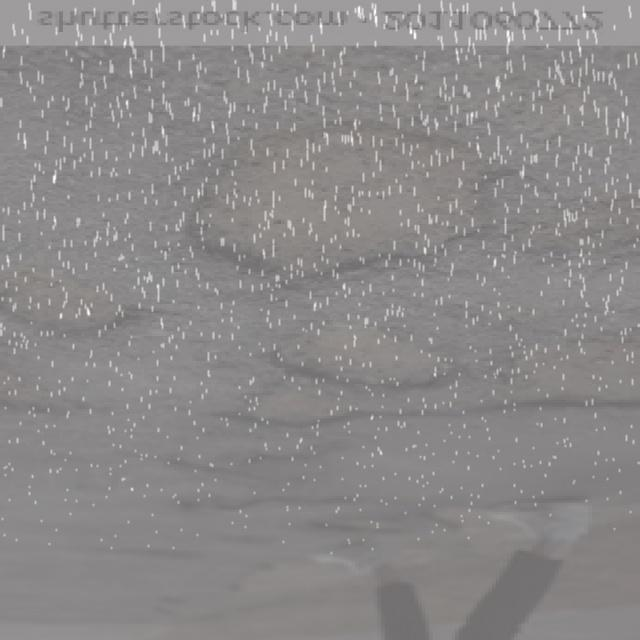Pothole: (171, 85, 496, 288), (254, 302, 462, 402), (178, 457, 408, 538), (218, 374, 359, 438)
